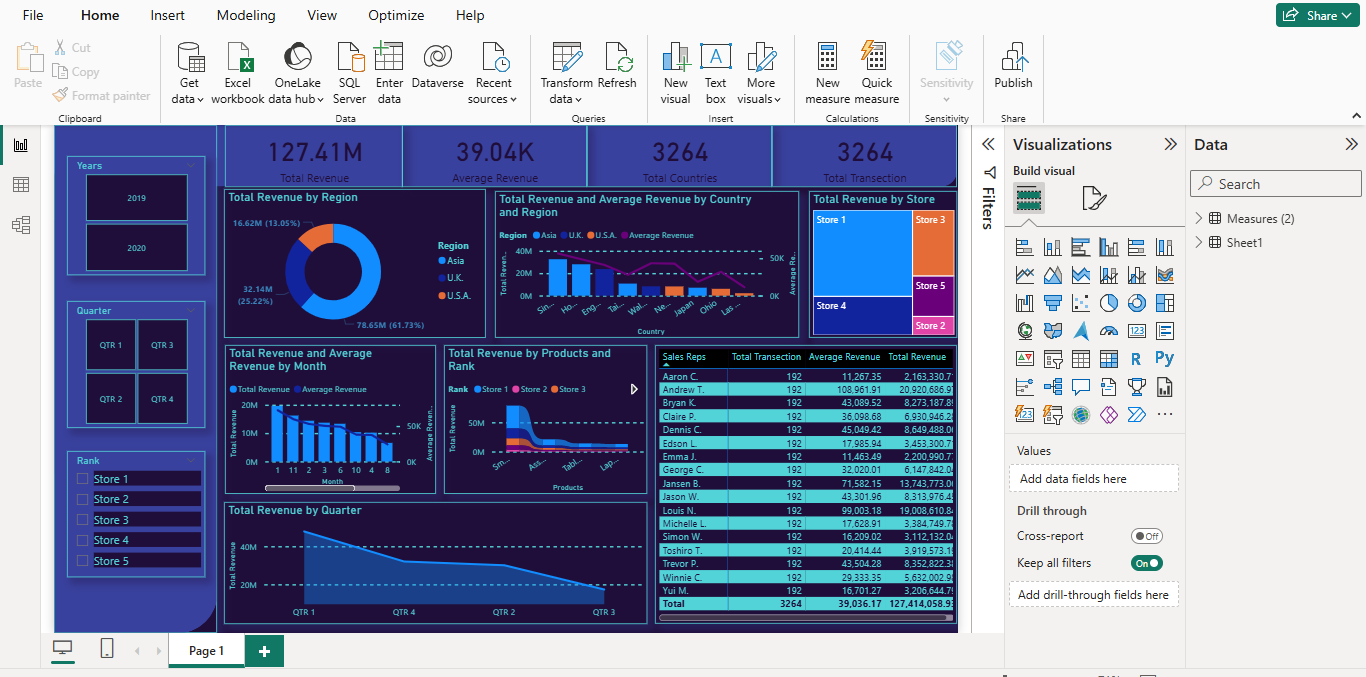

The page's visual inventory and layout, read from the dashboard file:
{"tool":"powerbi","page":{"name":"Page 1","canvas":[1280,720],"ordinal":0},"visuals":[{"type":"shape","box":[0,0,1280,87.3],"z":0},{"type":"shape","box":[0,0,231,720],"z":1000},{"type":"card","fields":{"Values":["Measures (2).Total Revenue"]},"box":[242.4,0,252.3,87.9],"z":2000},{"type":"card","fields":{"Values":["Measures (2).Average Revenue"]},"box":[493.2,0,262.2,87.9],"z":3000},{"type":"card","fields":{"Values":["Measures (2).Total Countries"]},"box":[755.4,0,262.2,87.9],"z":4000},{"type":"card","fields":{"Values":["Measures (2).Total Transection"]},"box":[1017.6,0,262.2,87.9],"z":5000},{"type":"donutChart","fields":{"Y":["Measures (2).Total Revenue"],"Category":["Sheet1.Region"]},"box":[240.9,90.7,371.3,211.2],"z":6000},{"type":"lineStackedColumnComboChart","fields":{"Category":["Sheet1.Country"],"Y":["Measures (2).Total Revenue"],"Y2":["Measures (2).Average Revenue"],"Series":["Sheet1.Region"]},"box":[625,93.5,430.9,208.3],"z":7000},{"type":"treemap","title":"Total Revenue by Store","fields":{"Values":["Measures (2).Total Revenue"],"Group":["Sheet1.Rank"]},"box":[1070.1,93.5,209.8,208.3],"z":8000},{"type":"areaChart","fields":{"Y":["Measures (2).Total Revenue"],"Category":["Sheet1.Quarter"]},"box":[240.9,534.3,599.5,172.9],"z":9000},{"type":"pivotTable","fields":{"Values":["Measures (2).Total Transection","Measures (2).Average Revenue","Measures (2).Total Revenue"],"Rows":["Sheet1.Sales Reps"]},"box":[851.8,311.8,428,395.4],"z":10000},{"type":"lineStackedColumnComboChart","fields":{"Category":["Sheet1.Month"],"Y":["Measures (2).Total Revenue"],"Y2":["Measures (2).Average Revenue"]},"box":[242.4,311.8,299.1,211.2],"z":11000},{"type":"ribbonChart","fields":{"Category":["Sheet1.Products"],"Series":["Sheet1.Rank"],"Y":["Measures (2).Total Revenue"]},"box":[552.8,311.8,287.7,211.2],"z":12000},{"type":"slicer","fields":{"Values":["Sheet1.Years"]},"box":[18.4,43.9,195.6,168.7],"z":13000},{"type":"slicer","fields":{"Values":["Sheet1.Quarter"]},"box":[18.4,249.4,195.6,180],"z":14000},{"type":"slicer","fields":{"Values":["Sheet1.Rank"]},"box":[18.4,462,195.6,178.6],"z":15000}]}

Visuals, with their boxes on the page's 1280x720 design canvas (x1, y1, x2, y2). These are canvas units, not pixel positions in the 1366x677 screenshot, which may show the page scaled, cropped or inside an application window:
shape: <box>0,0,1280,87</box>
shape: <box>0,0,231,720</box>
card - Measures (2).Total Revenue: <box>242,0,495,88</box>
card - Measures (2).Average Revenue: <box>493,0,755,88</box>
card - Measures (2).Total Countries: <box>755,0,1018,88</box>
card - Measures (2).Total Transection: <box>1018,0,1280,88</box>
donutChart - Measures (2).Total Revenue x Sheet1.Region: <box>241,91,612,302</box>
lineStackedColumnComboChart - Sheet1.Country x Measures (2).Total Revenue: <box>625,94,1056,302</box>
"Total Revenue by Store" treemap: <box>1070,94,1280,302</box>
areaChart - Measures (2).Total Revenue x Sheet1.Quarter: <box>241,534,840,707</box>
pivotTable - Measures (2).Total Transection x Measures (2).Average Revenue: <box>852,312,1280,707</box>
lineStackedColumnComboChart - Sheet1.Month x Measures (2).Total Revenue: <box>242,312,542,523</box>
ribbonChart - Sheet1.Products x Sheet1.Rank: <box>553,312,840,523</box>
slicer - Sheet1.Years: <box>18,44,214,213</box>
slicer - Sheet1.Quarter: <box>18,249,214,429</box>
slicer - Sheet1.Rank: <box>18,462,214,641</box>
